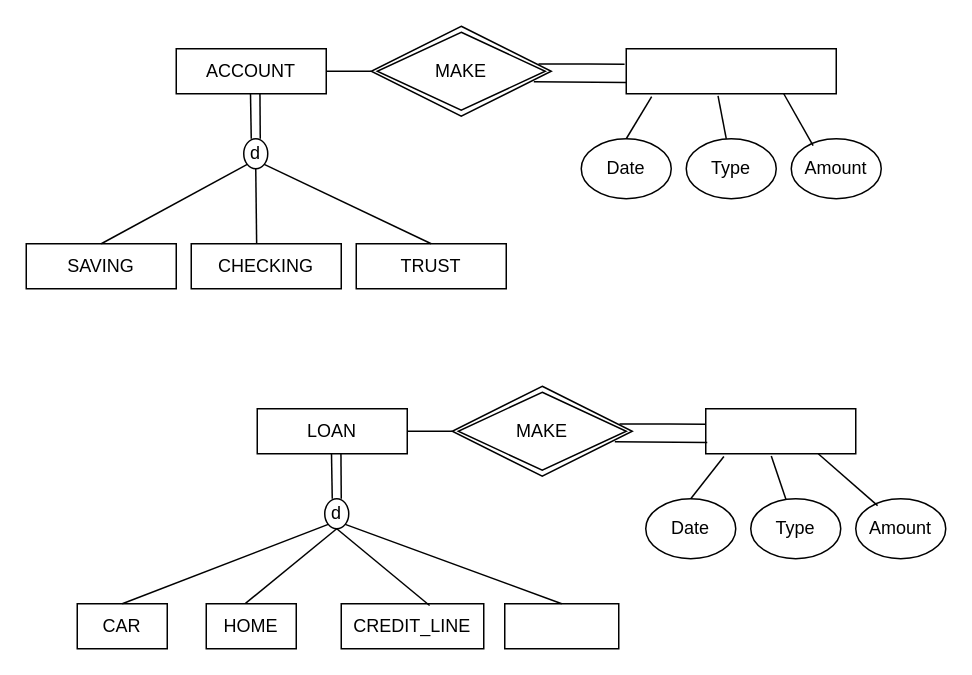
The diagram is 972 pixels wide and 675 high, and some of its shapes have lost their labels. Here are the shapes that lost their labels. From the top down, the centre of each, then its label:
At (x=730, y=70): "TRANSACTION".
At (x=780, y=430): "PAYMENT".
At (x=561, y=625): "PERSONAL".
